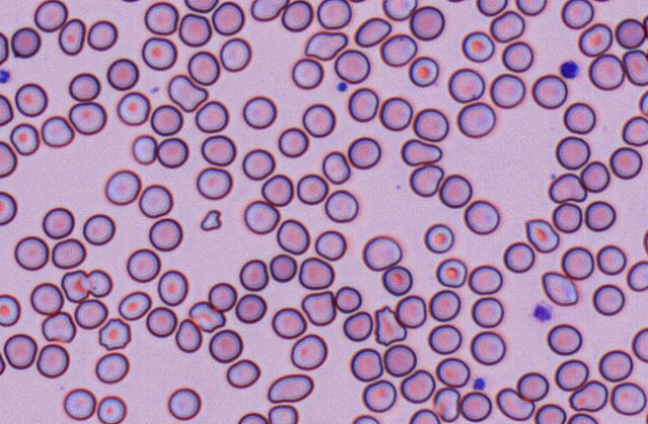PLT: (533, 300, 552, 321), (559, 60, 578, 80), (471, 375, 486, 392), (0, 66, 11, 85), (335, 82, 347, 95)
RBC: (167, 73, 207, 112), (456, 101, 495, 138), (362, 235, 402, 271), (267, 373, 314, 403), (290, 333, 327, 370), (447, 67, 485, 103), (104, 169, 141, 205), (588, 53, 624, 90), (568, 379, 608, 412), (489, 72, 525, 108), (531, 73, 567, 109), (541, 270, 578, 305), (379, 33, 417, 67), (68, 101, 106, 135), (304, 30, 347, 60), (495, 387, 534, 420), (399, 368, 435, 403), (334, 48, 370, 83), (243, 199, 279, 234), (463, 199, 499, 234), (412, 107, 449, 141), (409, 5, 444, 40), (301, 290, 336, 325), (470, 330, 505, 365), (610, 381, 646, 415), (141, 36, 177, 70), (196, 166, 232, 200), (3, 333, 37, 369), (408, 163, 443, 197), (525, 218, 559, 253), (14, 235, 48, 270), (438, 173, 472, 208), (555, 135, 590, 169), (276, 218, 309, 254), (298, 256, 334, 289), (188, 300, 225, 332), (548, 172, 586, 203), (400, 138, 442, 166), (349, 347, 383, 381), (144, 1, 178, 35), (382, 343, 416, 377), (578, 22, 612, 56), (301, 103, 335, 137), (148, 217, 182, 251), (116, 91, 150, 125), (126, 248, 160, 282), (242, 95, 276, 129), (361, 379, 396, 412), (187, 50, 220, 85), (271, 306, 306, 339), (598, 349, 633, 382), (208, 329, 243, 362), (36, 343, 69, 378), (379, 96, 412, 131), (14, 82, 47, 117), (138, 184, 173, 217), (546, 323, 582, 355), (200, 134, 236, 166), (354, 16, 391, 47), (157, 269, 188, 306), (178, 12, 211, 46), (211, 1, 244, 35), (554, 358, 588, 391), (167, 387, 201, 420), (324, 189, 358, 222), (347, 136, 381, 169), (561, 245, 594, 279), (489, 10, 524, 42), (33, 0, 68, 32), (219, 37, 251, 72), (51, 237, 86, 269), (194, 100, 229, 132), (347, 87, 379, 122), (98, 317, 131, 350), (63, 387, 96, 420), (150, 103, 183, 136), (106, 57, 139, 90), (30, 282, 63, 315), (609, 146, 642, 179), (563, 101, 596, 134), (461, 30, 495, 62), (95, 352, 129, 384), (241, 148, 275, 180), (40, 115, 74, 147), (261, 173, 293, 206), (592, 283, 625, 315), (42, 206, 74, 239), (82, 213, 115, 245), (427, 323, 461, 354), (74, 298, 108, 329), (395, 294, 426, 328), (435, 357, 470, 387), (291, 57, 323, 89), (501, 40, 533, 72), (428, 289, 460, 321), (459, 391, 492, 422), (226, 358, 260, 388), (117, 290, 151, 320), (468, 264, 502, 294), (316, 0, 351, 29), (58, 18, 85, 55), (281, 0, 313, 31), (408, 55, 439, 87), (277, 126, 309, 157), (145, 306, 177, 337), (314, 229, 346, 260), (157, 136, 188, 168), (296, 173, 328, 204), (503, 241, 534, 273), (471, 296, 503, 327), (584, 200, 616, 231), (60, 269, 90, 302), (516, 371, 549, 401), (9, 122, 39, 155), (321, 150, 350, 184), (174, 318, 202, 353), (342, 310, 373, 341), (10, 26, 41, 57), (87, 19, 118, 50), (580, 160, 610, 192), (615, 17, 645, 49), (435, 257, 467, 287), (235, 293, 267, 323), (560, 0, 593, 29), (239, 258, 268, 291), (381, 265, 412, 295), (423, 223, 454, 253), (552, 202, 582, 233), (596, 244, 626, 275), (68, 72, 100, 101), (622, 49, 647, 85), (208, 282, 237, 312), (96, 395, 127, 423), (269, 253, 297, 282), (621, 115, 647, 146), (131, 134, 157, 164), (250, 0, 287, 21), (334, 285, 361, 313), (87, 268, 112, 297), (382, 0, 416, 20), (0, 293, 20, 326), (626, 260, 647, 291), (267, 403, 299, 423), (534, 403, 566, 423), (0, 140, 17, 177), (0, 191, 17, 225), (631, 327, 647, 362), (476, 0, 507, 16), (408, 408, 440, 423), (515, 0, 546, 15), (0, 93, 13, 126), (184, 0, 217, 12), (237, 411, 268, 423), (566, 412, 598, 423), (0, 31, 9, 64), (638, 89, 647, 117), (351, 414, 379, 423), (0, 351, 6, 375), (642, 13, 648, 37), (642, 228, 647, 255), (118, 0, 142, 3), (445, 0, 467, 3), (347, 0, 368, 3), (592, 0, 617, 2)
Schistocyte: (375, 306, 408, 347), (435, 390, 461, 420), (199, 210, 222, 231)
